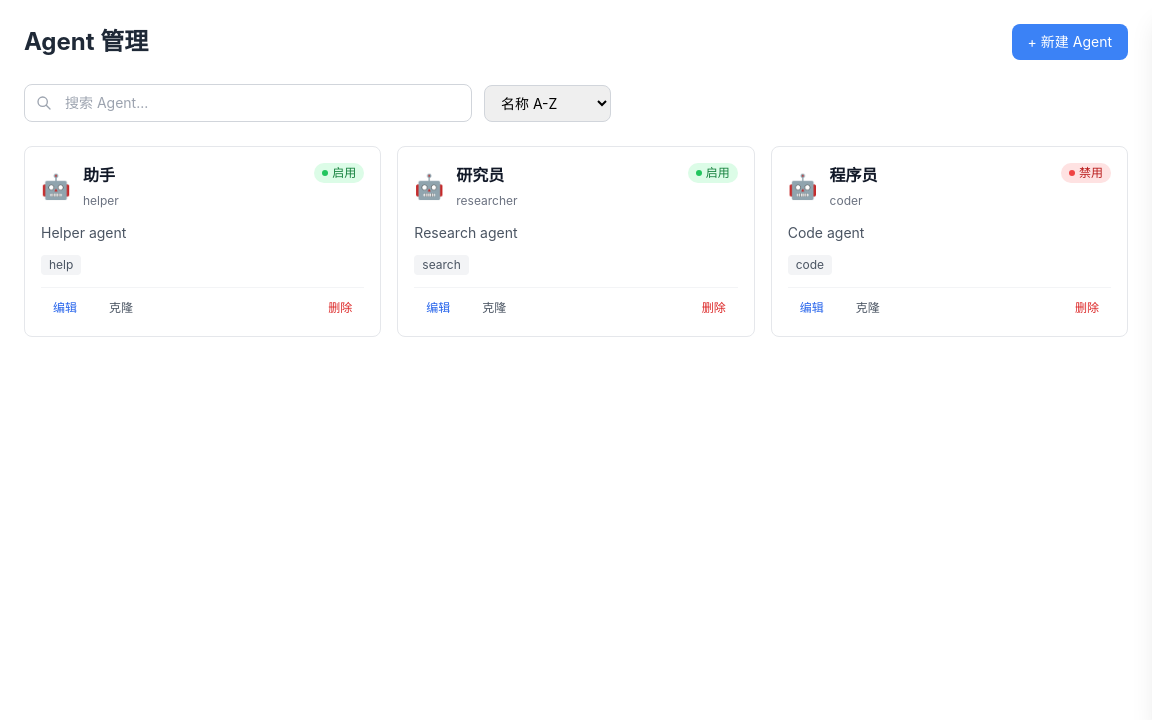
Test: AgentManagement › opens drawer when create button is clicked
Click the button "+ 新建 Agent": click(1070, 42) [1012,24,1128,60]
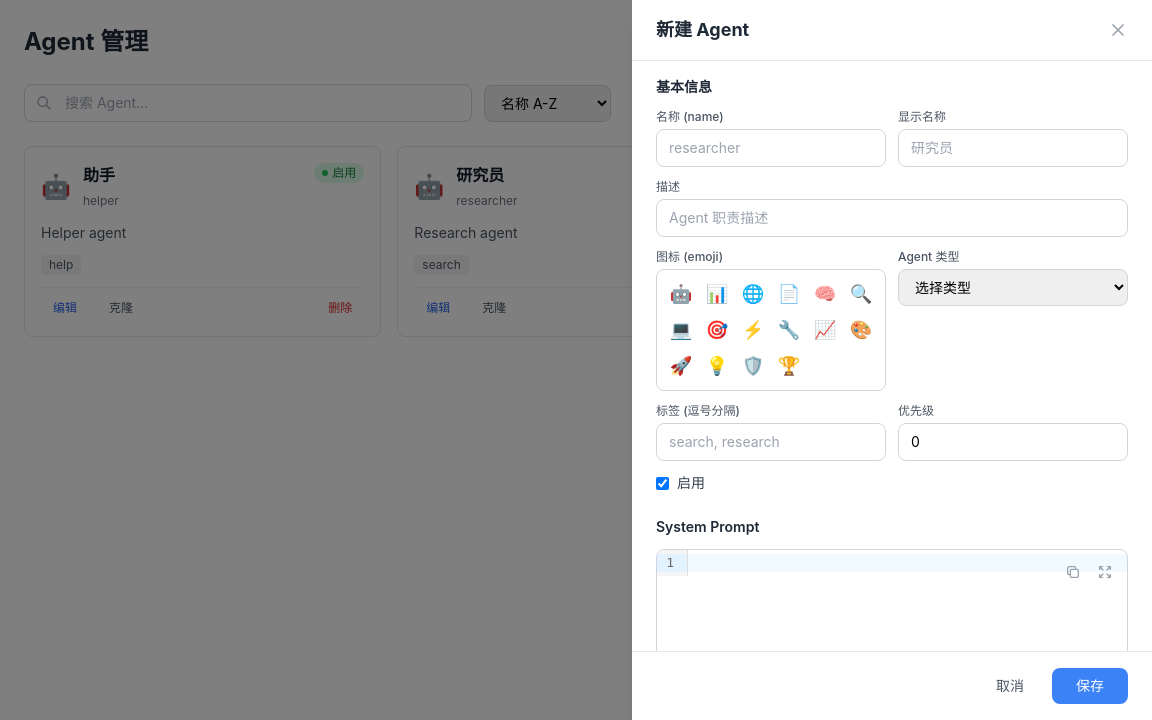
Result: the heading "新建 Agent" is shown at [656,16,749,44]
